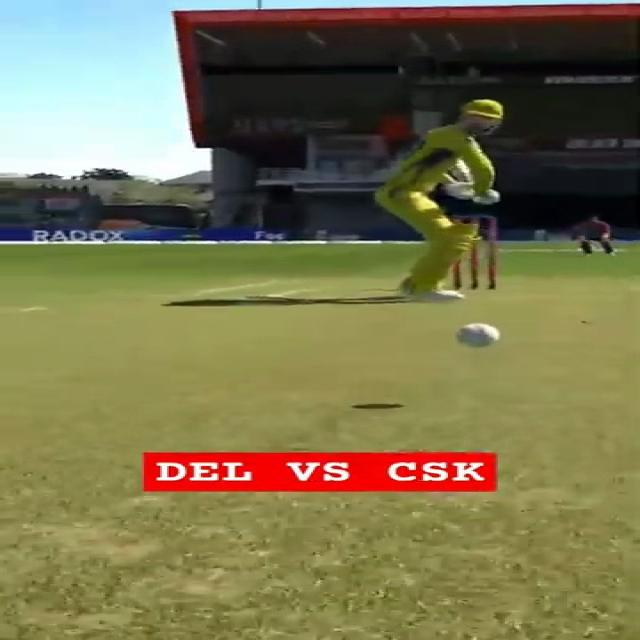ball: (459, 322, 501, 348)
